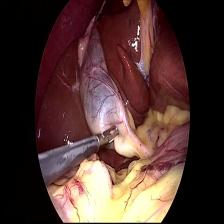Grasper: (96, 117, 121, 160)
